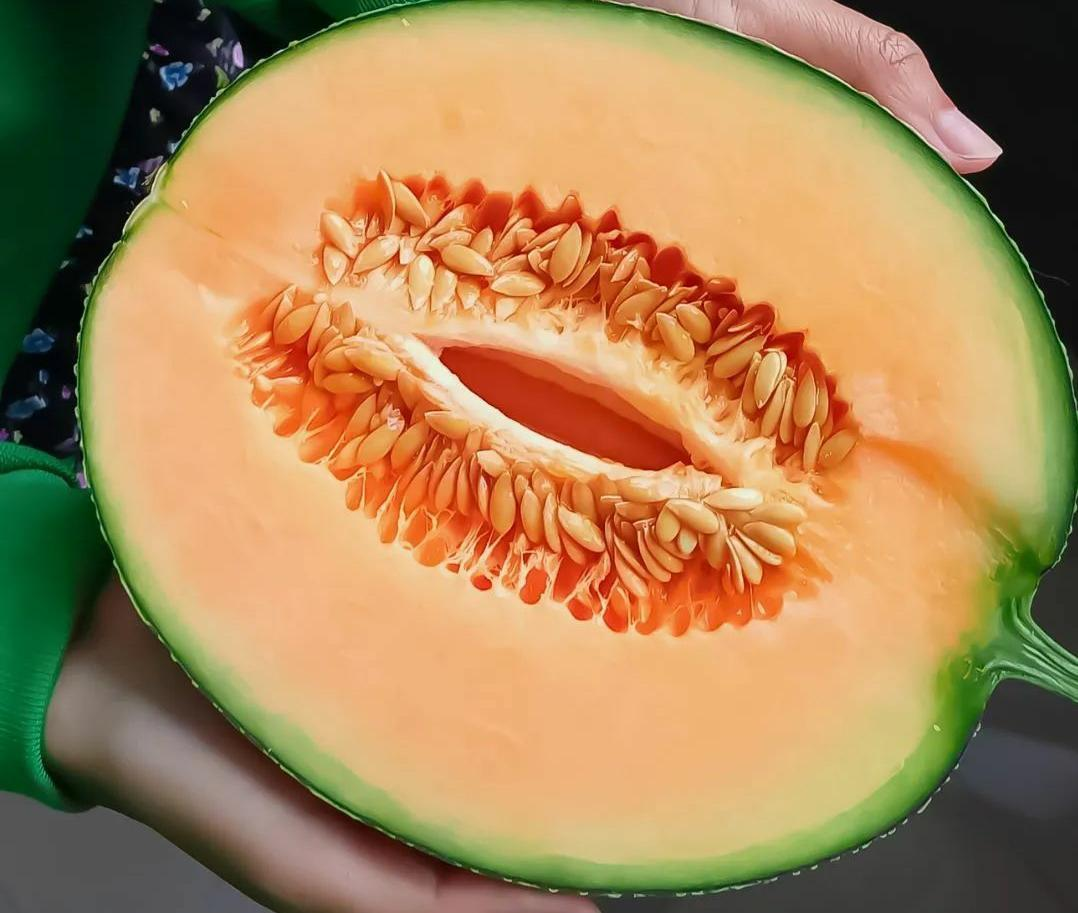Melon Ripe: (79, 3, 1077, 889)
